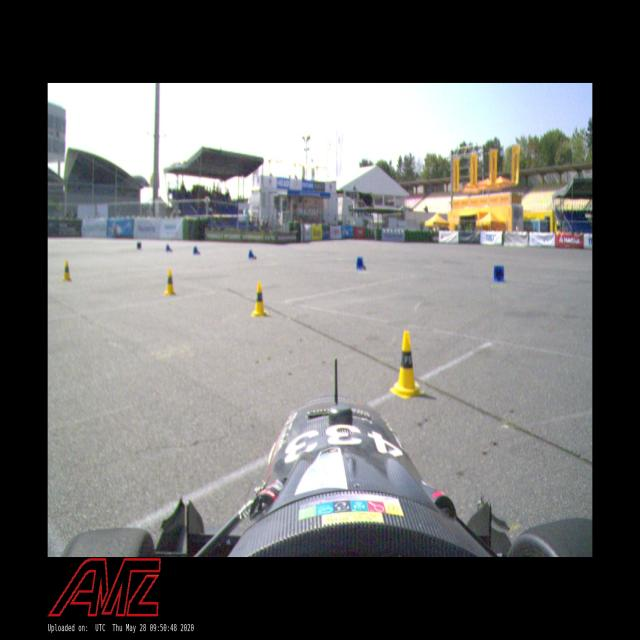blue_cone: (356, 255, 367, 272), (248, 250, 257, 260), (192, 246, 200, 255), (165, 244, 172, 253)
yellow_cone: (388, 330, 424, 401), (250, 281, 269, 318), (163, 268, 177, 296), (62, 260, 72, 282)
